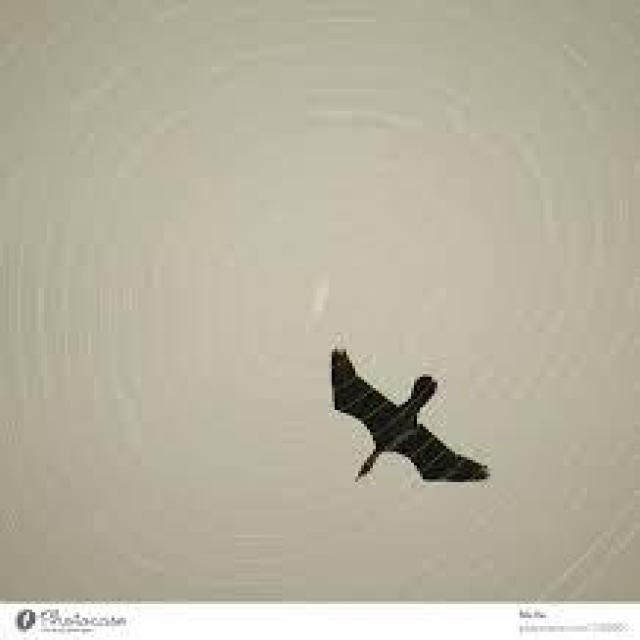bird: (329, 338, 486, 482)
